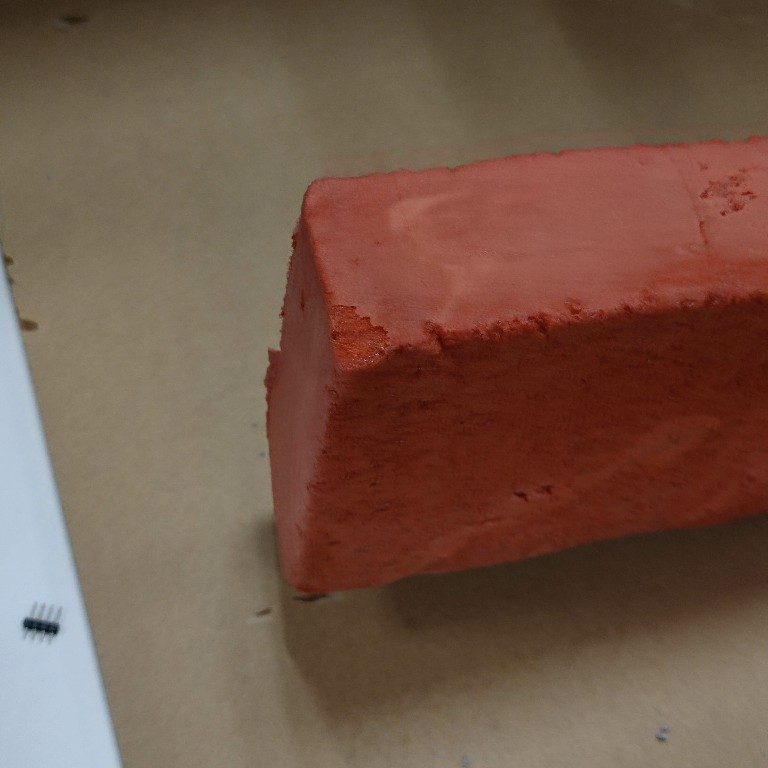brick: (259, 132, 768, 596)
